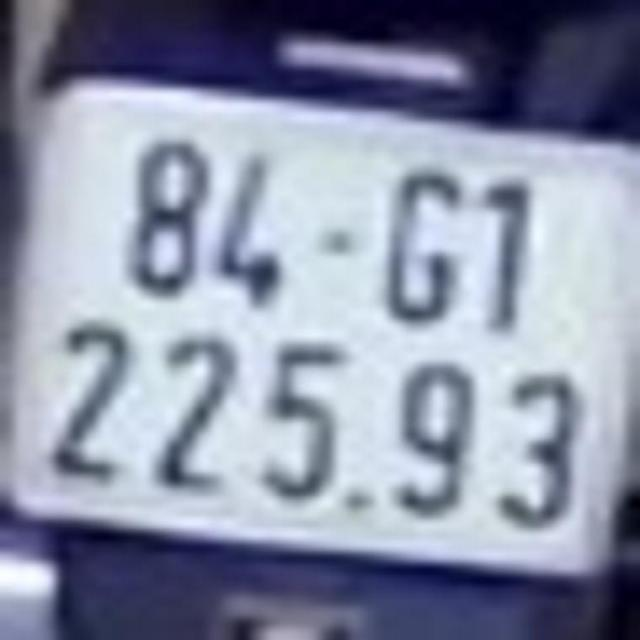1: (471, 155, 533, 336)
2: (52, 314, 127, 488), (161, 321, 233, 490)
3: (500, 362, 575, 533)
4: (212, 128, 282, 315)
5: (266, 337, 337, 506)
8: (125, 124, 207, 300)
9: (396, 345, 471, 521)
G: (382, 153, 462, 321)
